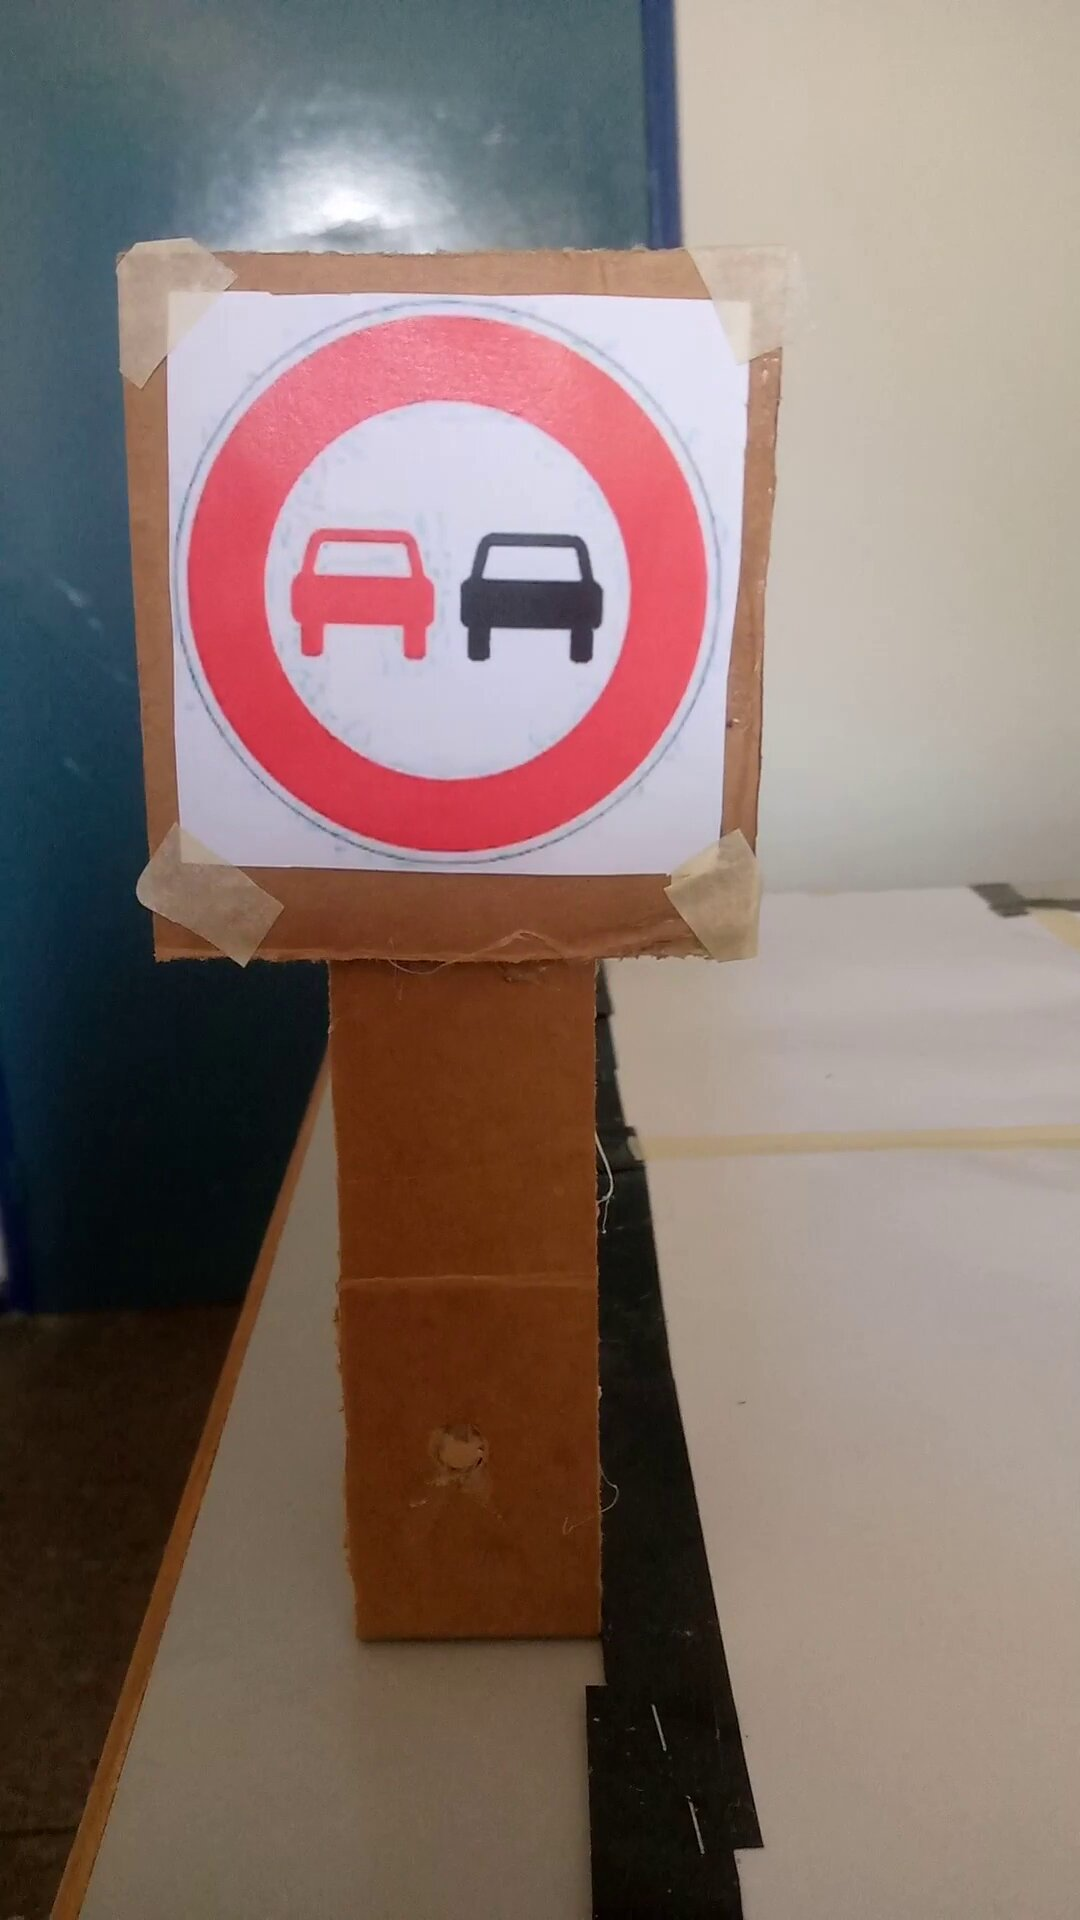panel100: (161, 274, 738, 909)
